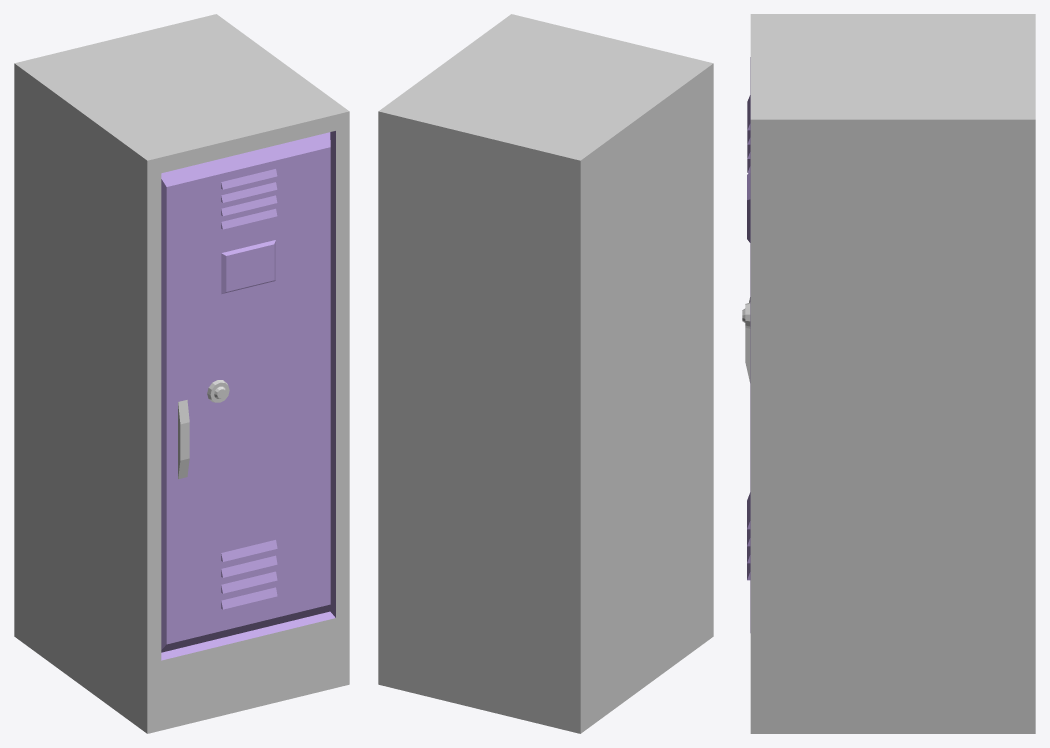
Rendered from locker.fbx.
3 views of the same model, side by side, from view 1: azimuth 30°, elevation 25°; view 2: azimuth 150°, elevation 25°; view 3: azimuth 270°, elevation 25° (orthographic). The views are drawn at different scales.
Visible parts, largest first — view 1: Locker; view 2: Locker; view 3: Locker.
Part boxes in pixels (x1,y1,x2,y2): Locker: [14, 14, 349, 733]; Locker: [378, 14, 713, 733]; Locker: [742, 14, 1035, 733].
Size of the model in its own units: 54.47 by 148 by 63.94.
